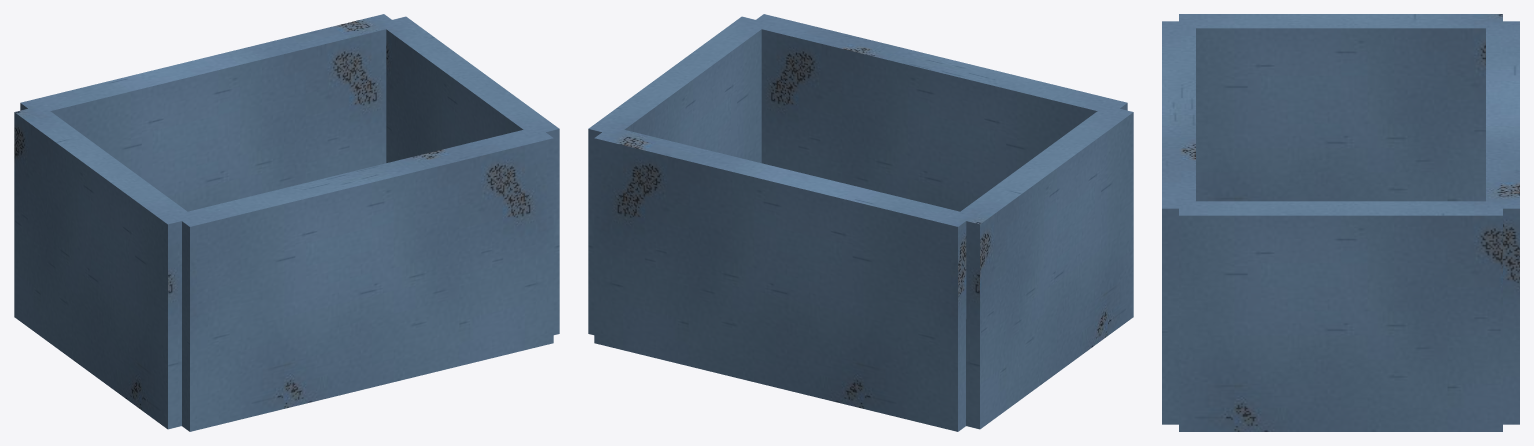
Rendered from crate1_v4.glb.
The picture shows the model from 3 angles, left to right: view 1: azimuth 30°, elevation 25°; view 2: azimuth 150°, elevation 25°; view 3: azimuth 270°, elevation 25°; orthographic projection. The views are drawn at different scales.
Visible parts, largest first — view 1: Variant_crate1_4; view 2: Variant_crate1_4; view 3: Variant_crate1_4.
Boxes of the visible parts, left/top/right/bottom form: Variant_crate1_4: left=14, top=14, right=559, bottom=431; Variant_crate1_4: left=588, top=14, right=1133, bottom=431; Variant_crate1_4: left=1162, top=14, right=1519, bottom=431.
Bounding box in the file's own units: 0.56 × 0.28 × 0.42.
Materials: 1 (1 with a texture image).
